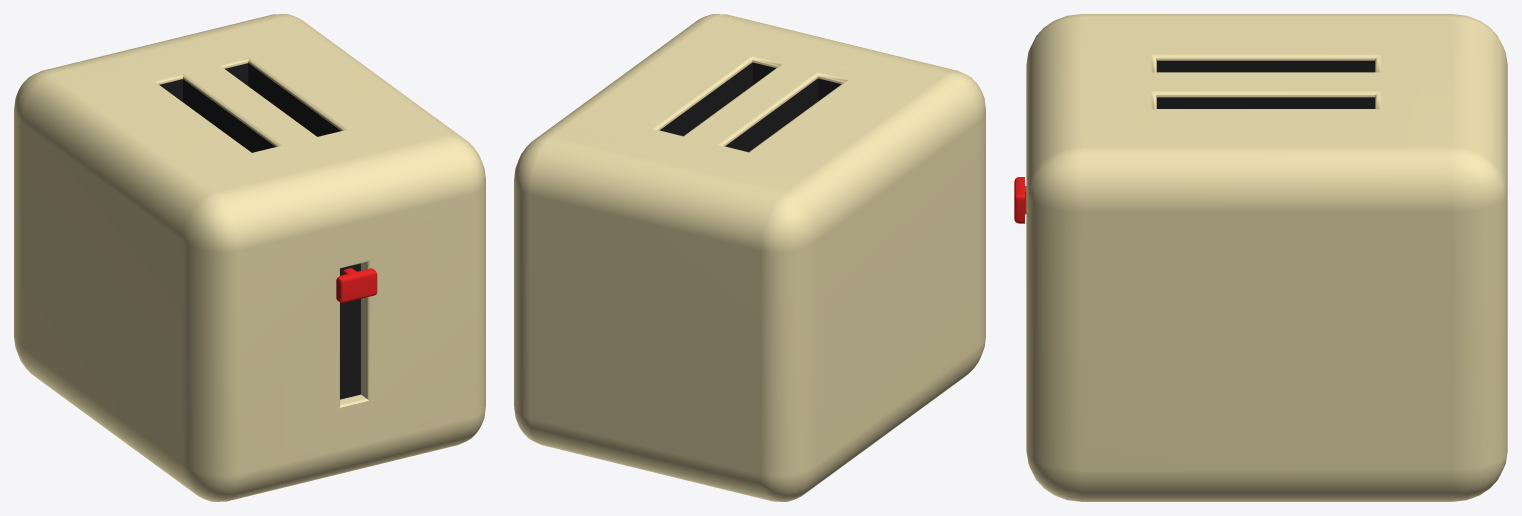
Rendered from toaster.glb.
3 views of the same model, side by side, from view 1: azimuth 30°, elevation 25°; view 2: azimuth 150°, elevation 25°; view 3: azimuth 270°, elevation 25° (orthographic). The views are drawn at different scales.
Visible parts, largest first — view 1: toaster.001; view 2: toaster.001; view 3: toaster.001.
Boxes of the visible parts, x1=… form: toaster.001: x1=14, y1=14, x2=485, y2=501; toaster.001: x1=514, y1=14, x2=985, y2=501; toaster.001: x1=1014, y1=14, x2=1507, y2=501.
Size of the model in its own units: 0.2309 by 0.2288 by 0.2905.
Materials: 1 (1 with a texture image).
